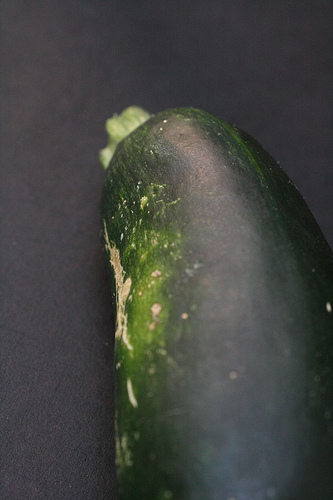cucumber: (100, 100, 331, 498)
